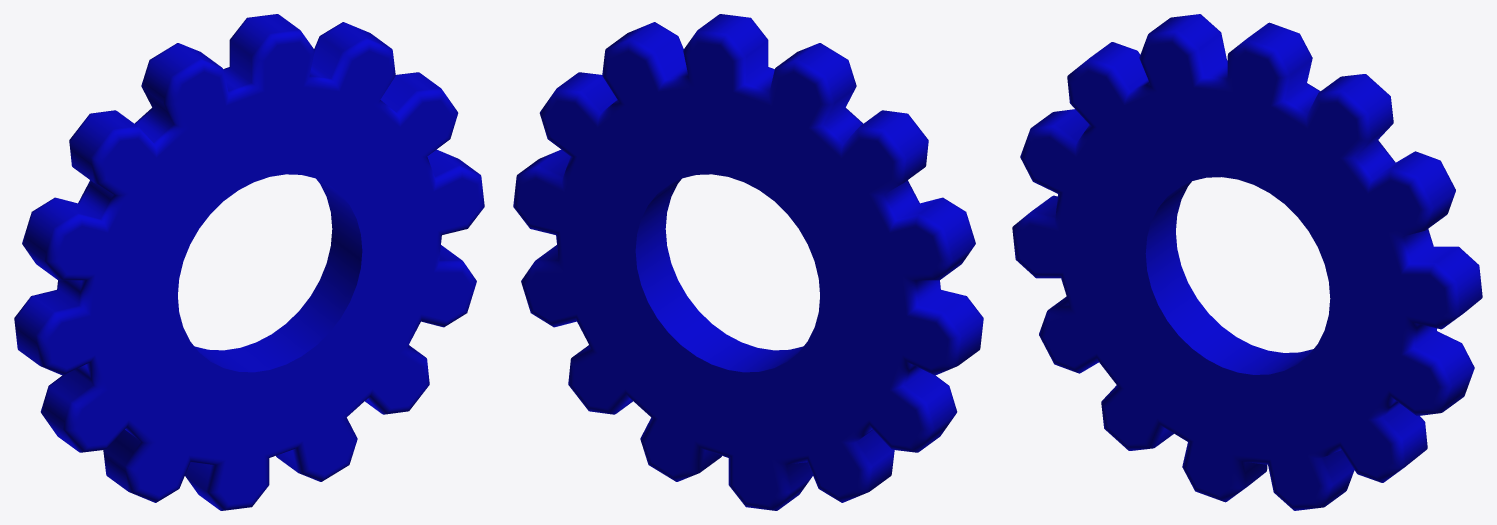
The model's file is CogwheelBlue.fbx.
3 renders of one model, left to right at view 1: azimuth 30°, elevation 25°; view 2: azimuth 150°, elevation 25°; view 3: azimuth 330°, elevation 25°, orthographic.
Visible parts, largest first — view 1: Cap 1, Rounding 1, Extrude NURBS, Oil Tank, Rounding 2; view 2: Cap 2, Rounding 2, Extrude NURBS, Oil Tank, Rounding 1; view 3: Cap 1, Rounding 1, Extrude NURBS, Oil Tank, Rounding 2.
Part boxes in pixels (box(x1,y1,x2,y2)): Cap 1: box(49, 42, 479, 504); Rounding 1: box(36, 30, 484, 510); Extrude NURBS: box(15, 14, 478, 509); Oil Tank: box(194, 178, 362, 372); Rounding 2: box(14, 14, 457, 494); Cap 2: box(518, 42, 948, 504); Rounding 2: box(513, 30, 961, 510); Extrude NURBS: box(519, 14, 982, 509); Oil Tank: box(635, 178, 803, 372); Rounding 1: box(540, 14, 983, 494); Cap 1: box(1017, 42, 1447, 504); Rounding 1: box(1012, 30, 1460, 510); Extrude NURBS: box(1031, 14, 1481, 506); Oil Tank: box(1145, 181, 1313, 374); Rounding 2: box(1052, 14, 1482, 490).
Size of the model in its own units: 4.46 by 4.46 by 0.52.
